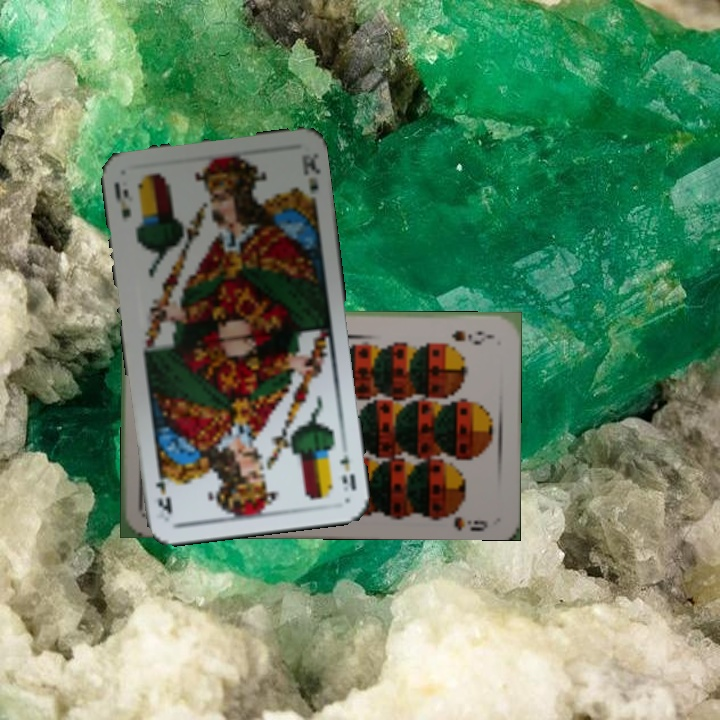EK: (335, 450, 359, 492), (110, 179, 134, 221)
S9: (448, 326, 495, 346)
